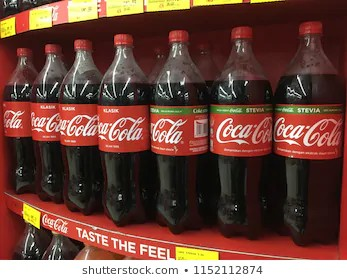coke-bottle-2l: (274, 18, 341, 251), (209, 19, 275, 235), (153, 27, 209, 232), (102, 30, 152, 230), (31, 43, 70, 202), (65, 35, 98, 216), (4, 44, 35, 195)
